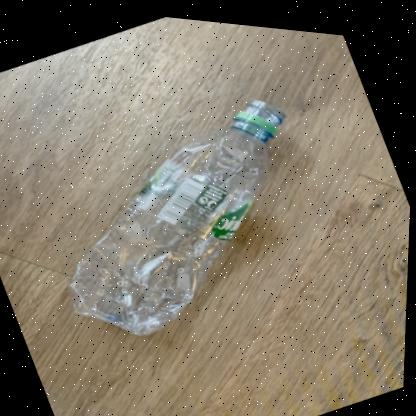Plastic: (71, 93, 286, 331)
